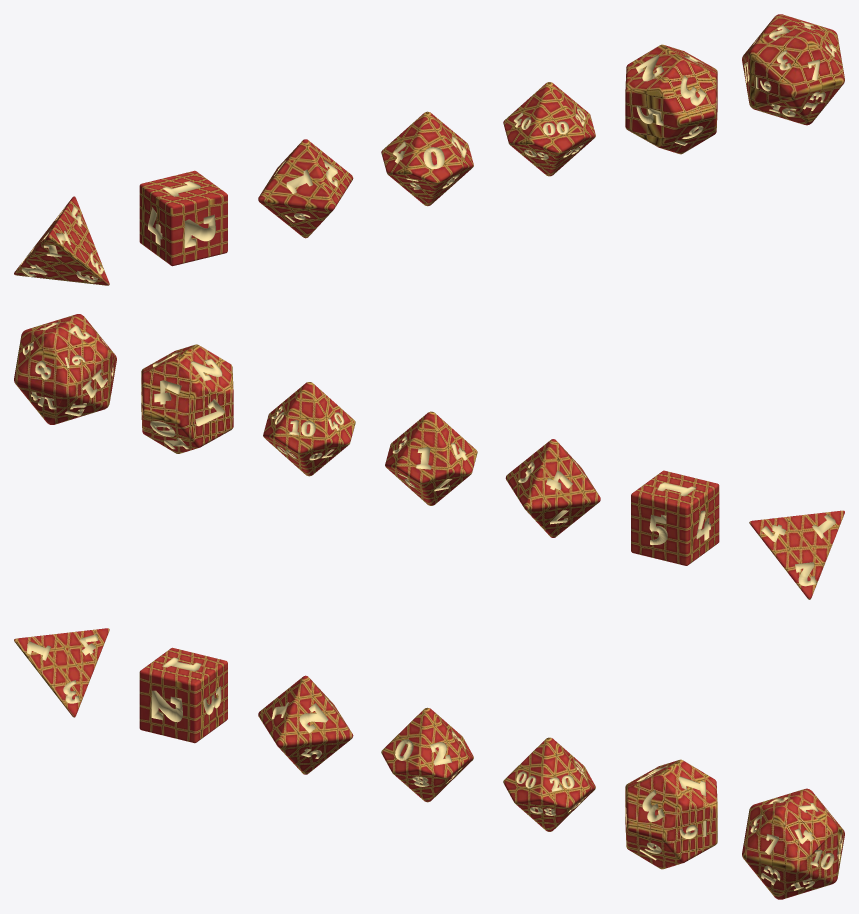
The model's file is dragon-scale.glb.
The picture shows the model from 3 angles, top to bottom: view 1: azimuth 30°, elevation 25°; view 2: azimuth 150°, elevation 25°; view 3: azimuth 330°, elevation 25°; orthographic projection.
Parts seen in each view (by area): view 1: d20, d12, d6, d100, d10, d8, d4; view 2: d20, d12, d6, d100, d10, d8, d4; view 3: d20, d12, d6, d8, d100, d10, d4.
Part boxes in pixels (x1,y1,x2,y2): d20: [742, 14, 844, 125]; d12: [625, 44, 717, 154]; d6: [139, 170, 227, 266]; d100: [503, 82, 595, 176]; d10: [381, 111, 473, 206]; d8: [258, 139, 353, 238]; d4: [14, 196, 109, 285]; d20: [14, 314, 116, 424]; d12: [141, 344, 233, 453]; d6: [631, 470, 719, 565]; d100: [263, 382, 355, 476]; d10: [385, 411, 477, 505]; d8: [505, 439, 600, 537]; d4: [749, 510, 844, 599]; d20: [742, 788, 844, 899]; d12: [625, 759, 717, 869]; d6: [139, 647, 227, 743]; d8: [258, 675, 353, 774]; d100: [503, 737, 595, 831]; d10: [381, 707, 473, 802]; d4: [14, 628, 109, 717].
Size of the model in its own units: 21.14 by 2.47 by 2.47.
Materials: 14 (7 with a texture image).
